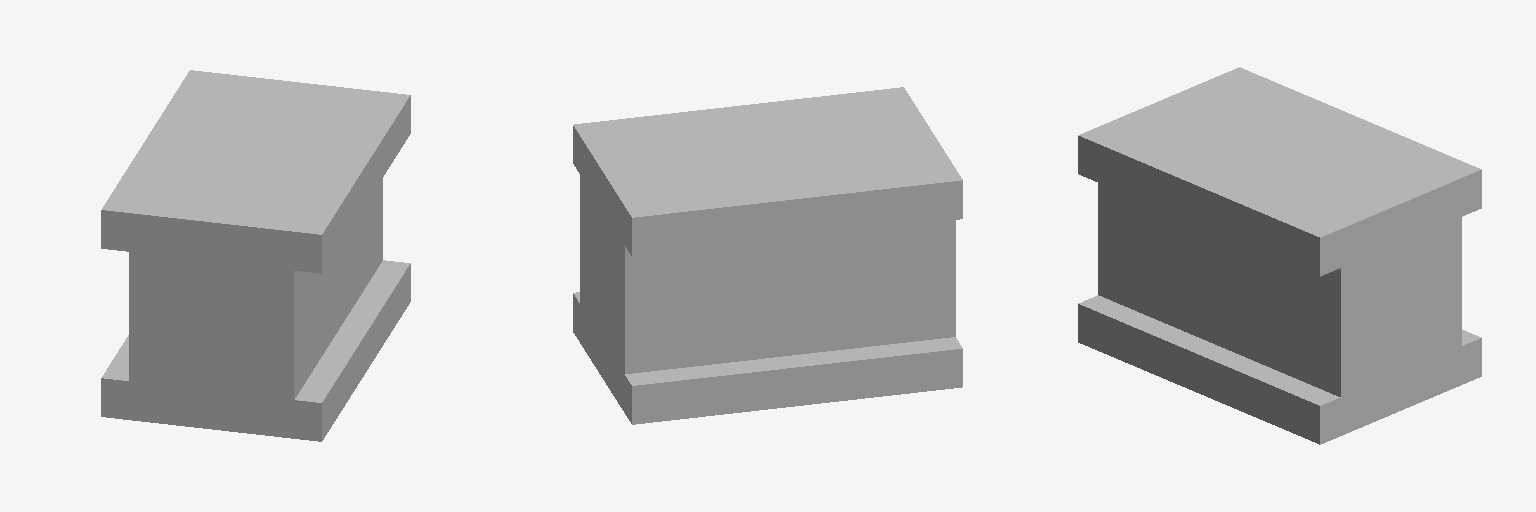
The model's file is diag_2.obj.
The picture shows the model from 3 angles: view 1: azimuth 30°, elevation 25°; view 2: azimuth 150°, elevation 25°; view 3: azimuth 270°, elevation 25°; orthographic projection.
Parts seen in each view (by area): view 1: middle.001, top, top.001, bottom.001, bottom, middle; view 2: top, middle, top.001, bottom, middle.001, bottom.001; view 3: top, middle, bottom, top.001, middle.001, bottom.001.
Boxes of the visible parts, box(x1,y1,x2,y2) form: middle.001: box(129, 252, 323, 399); top: box(131, 70, 410, 225); top.001: box(101, 163, 351, 273); bottom.001: box(101, 335, 351, 441); bottom: box(325, 260, 410, 393); middle: box(324, 178, 382, 352); top: box(573, 100, 852, 256); middle: box(580, 175, 844, 373); top.001: box(794, 87, 962, 231); bottom: box(573, 292, 852, 424); middle.001: box(845, 220, 955, 348); bottom.001: box(845, 337, 962, 399); top: box(1159, 101, 1481, 276); middle: box(1179, 217, 1461, 396); bottom: box(1159, 329, 1481, 444); top.001: box(1078, 67, 1319, 207); middle.001: box(1098, 183, 1178, 328); bottom.001: box(1078, 295, 1177, 375).
Size of the model in its own units: 1.77 by 1 by 1.77.